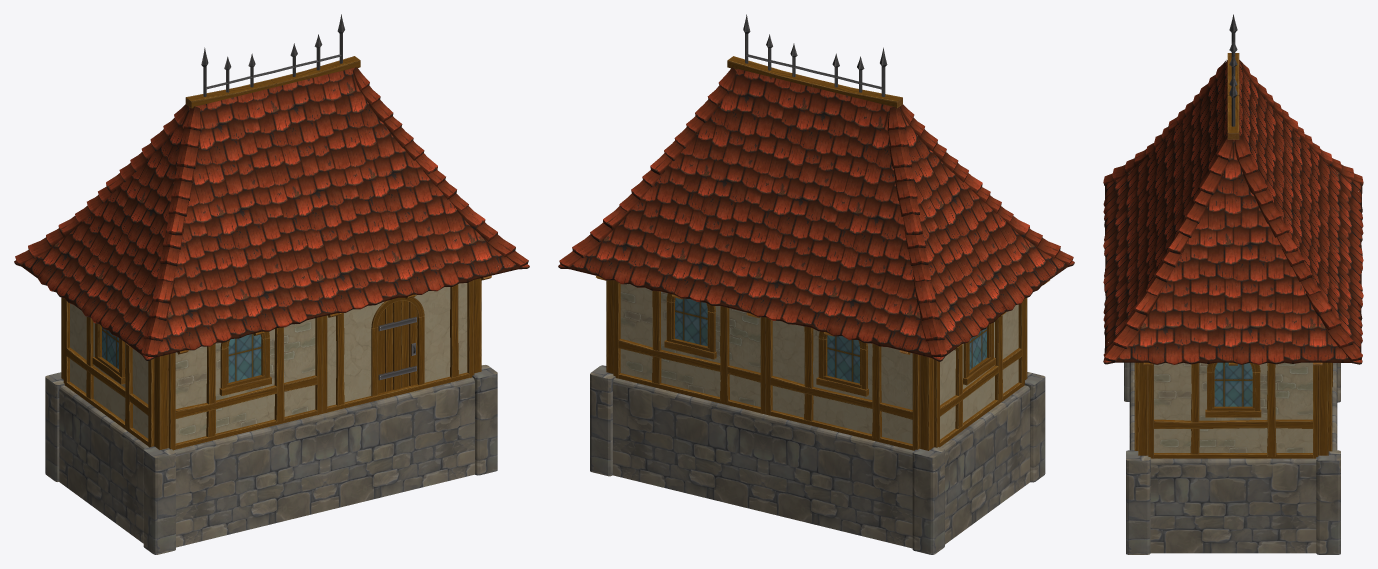
The model's file is house_2x1_02_merged_(1).gltf.
3 renders of one model, left to right at view 1: azimuth 30°, elevation 25°; view 2: azimuth 150°, elevation 25°; view 3: azimuth 270°, elevation 25°, orthographic. The views are drawn at different scales.
Parts seen in each view (by area): view 1: House_2x1_02_Merged (1); view 2: House_2x1_02_Merged (1); view 3: House_2x1_02_Merged (1).
Boxes of the visible parts, x1,y1,x2,y2 form: House_2x1_02_Merged (1): (14, 14, 529, 554); House_2x1_02_Merged (1): (558, 14, 1074, 554); House_2x1_02_Merged (1): (1103, 14, 1363, 554).
Size of the model in its own units: 12.64 by 13.87 by 7.66.
Materials: 9 (9 with a texture image).
